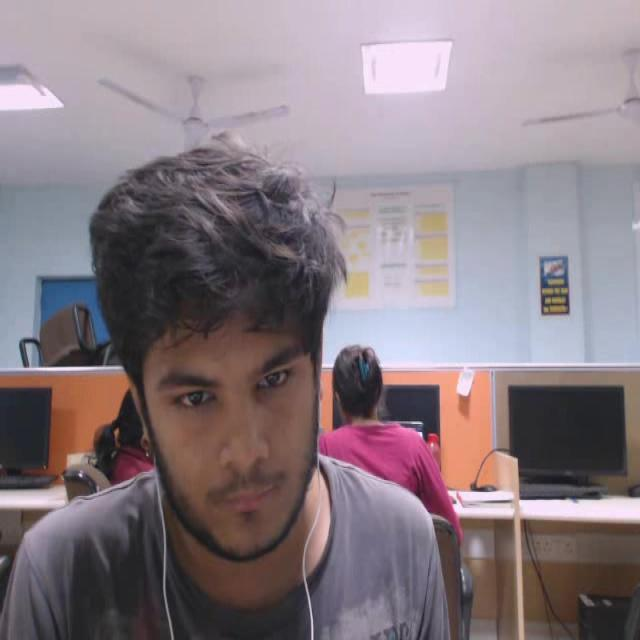Engaged: (56, 121, 374, 588)
